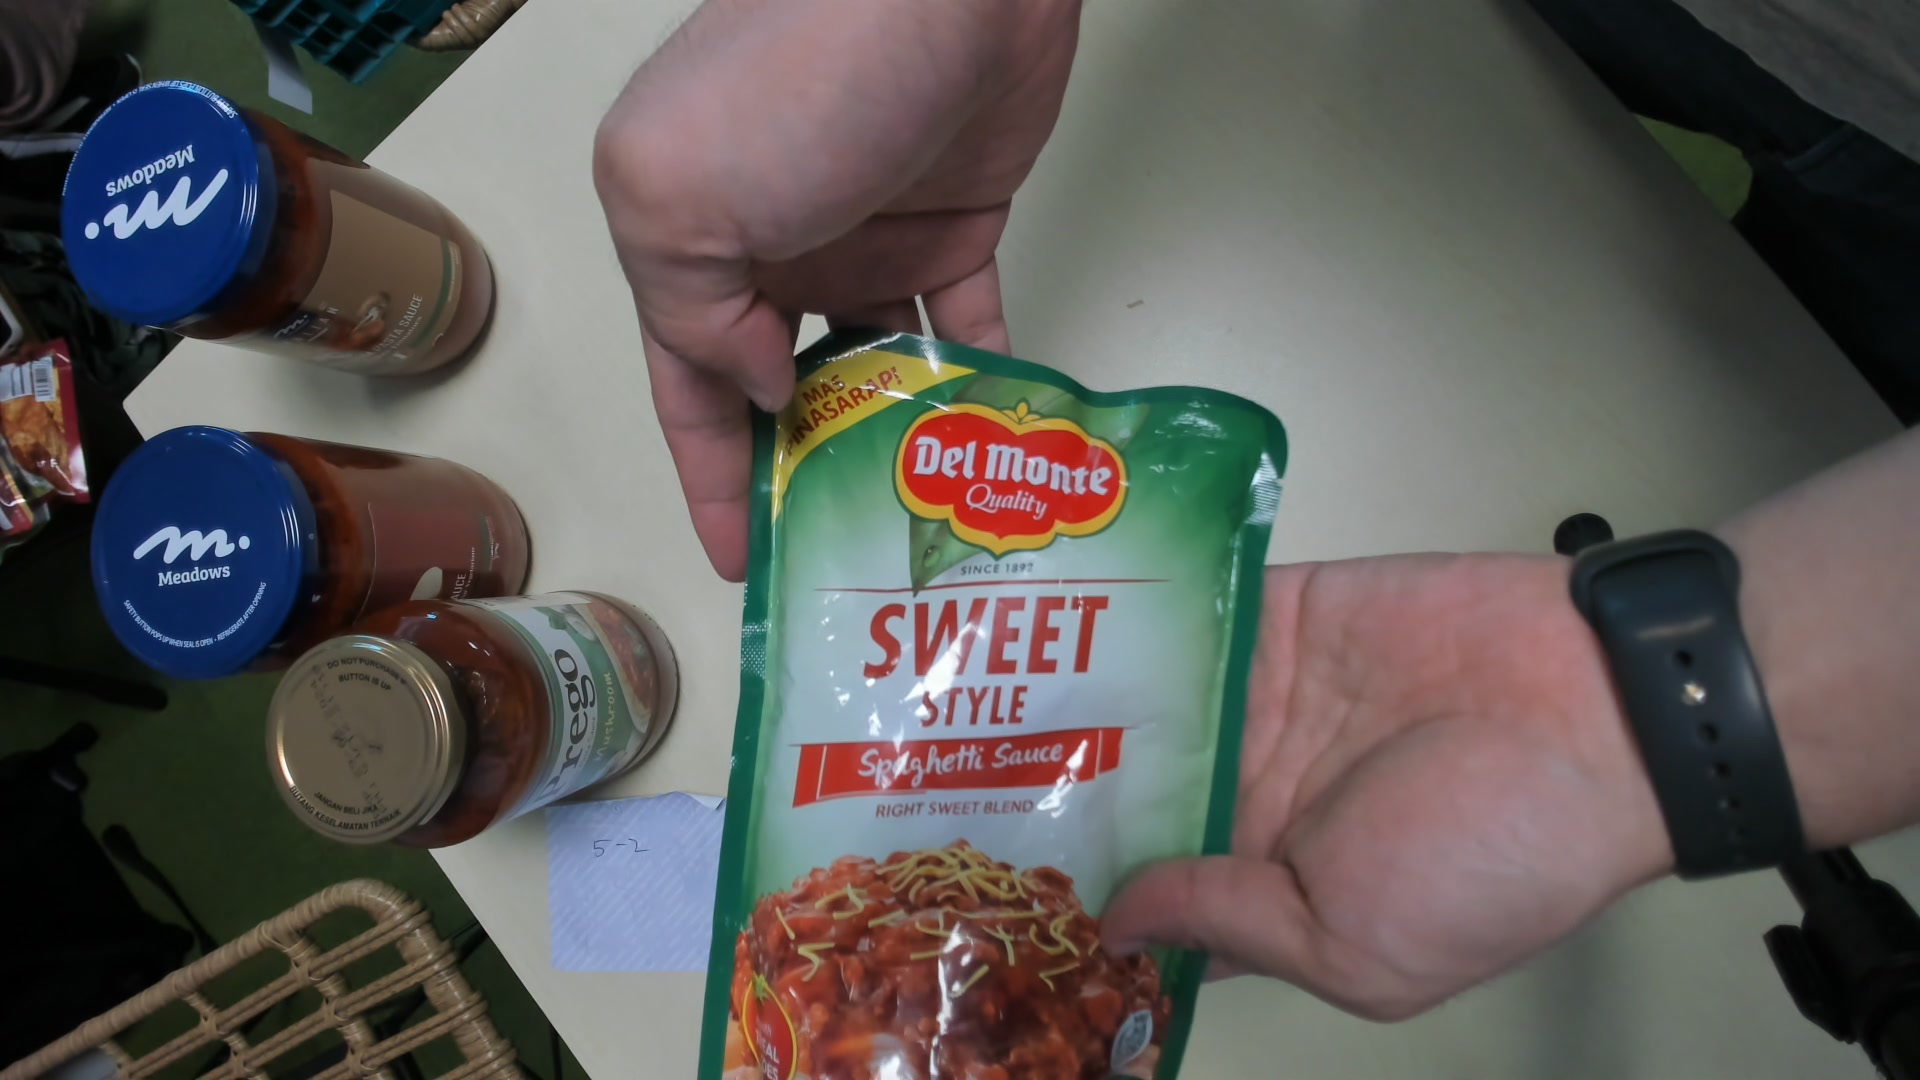PastaSauce_500-599g_Halal_NonHealthy: (700, 331, 1271, 1080)
